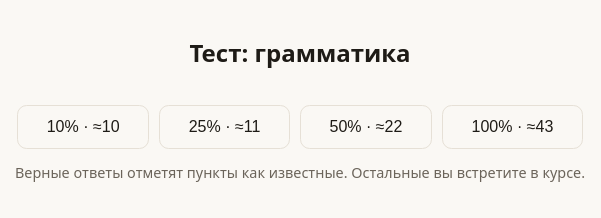
PlacementScreen › picking a percentage starts the questions with a "N из M" counter
Click the button "10% · ≈10" at [83, 127], box [17, 105, 149, 149]
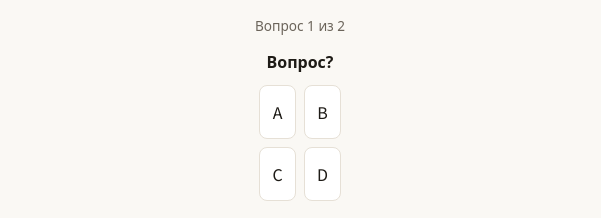
Check: the text "Вопрос 1 из 2" is shown, box [255, 16, 345, 35]
